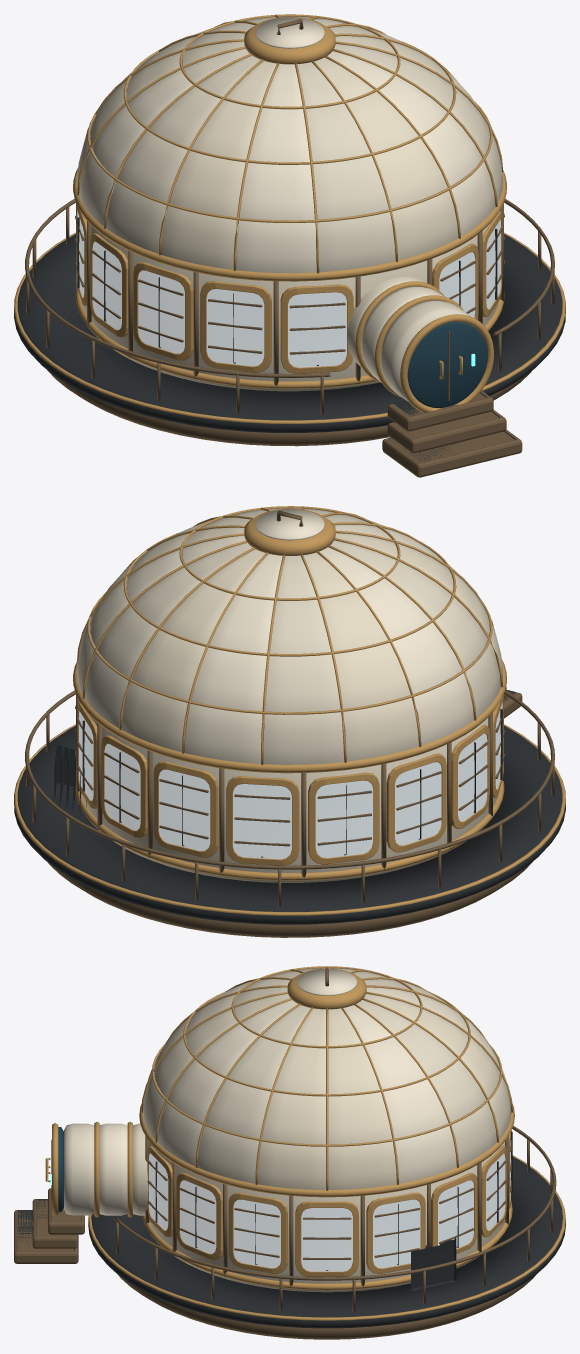
The model's file is habitat-h01.glb.
3 views of the same model, one above another, from view 1: azimuth 30°, elevation 25°; view 2: azimuth 150°, elevation 25°; view 3: azimuth 270°, elevation 25° (orthographic). The views are drawn at different scales.
Visible parts, largest first — view 1: H01 batch 02 / ARES / satin brass.001, H01 batch 03 / ARES / ivory ceramic 0.001, H01 batch 05 / ARES / ivory ceramic 1.001, H01 batch 06 / ARES / ivory ceramic 2.001, H01 batch 01 / ARES / charcoal seals.001, H01 batch 00 / ARES / dark bronze structure.001, H01 batch 04 / ARES / warm occupied windows.001, H01 batch 07 / ARES / navy enamel.001; view 2: H01 batch 02 / ARES / satin brass.001, H01 batch 03 / ARES / ivory ceramic 0.001, H01 batch 01 / ARES / charcoal seals.001, H01 batch 05 / ARES / ivory ceramic 1.001, H01 batch 06 / ARES / ivory ceramic 2.001, H01 batch 04 / ARES / warm occupied windows.001, H01 batch 00 / ARES / dark bronze structure.001; view 3: H01 batch 03 / ARES / ivory ceramic 0.001, H01 batch 02 / ARES / satin brass.001, H01 batch 01 / ARES / charcoal seals.001, H01 batch 05 / ARES / ivory ceramic 1.001, H01 batch 06 / ARES / ivory ceramic 2.001, H01 batch 00 / ARES / dark bronze structure.001, H01 batch 04 / ARES / warm occupied windows.001, H01 batch 07 / ARES / navy enamel.001.
Part boxes in pixels (box(x1,y1,x2,y2)): H01 batch 02 / ARES / satin brass.001: box(14, 14, 565, 423); H01 batch 03 / ARES / ivory ceramic 0.001: box(77, 17, 498, 391); H01 batch 05 / ARES / ivory ceramic 1.001: box(79, 17, 495, 381); H01 batch 06 / ARES / ivory ceramic 2.001: box(106, 16, 502, 401); H01 batch 01 / ARES / charcoal seals.001: box(14, 217, 565, 461); H01 batch 00 / ARES / dark bronze structure.001: box(25, 19, 554, 477); H01 batch 04 / ARES / warm occupied windows.001: box(77, 210, 500, 367); H01 batch 07 / ARES / navy enamel.001: box(407, 322, 487, 408); H01 batch 02 / ARES / satin brass.001: box(14, 506, 565, 915); H01 batch 03 / ARES / ivory ceramic 0.001: box(81, 508, 502, 882); H01 batch 01 / ARES / charcoal seals.001: box(14, 690, 565, 924); H01 batch 05 / ARES / ivory ceramic 1.001: box(77, 508, 473, 763); H01 batch 06 / ARES / ivory ceramic 2.001: box(84, 510, 500, 764); H01 batch 04 / ARES / warm occupied windows.001: box(79, 702, 502, 859); H01 batch 00 / ARES / dark bronze structure.001: box(25, 510, 554, 937); H01 batch 03 / ARES / ivory ceramic 0.001: box(133, 971, 511, 1292); H01 batch 02 / ARES / satin brass.001: box(45, 966, 565, 1320); H01 batch 01 / ARES / charcoal seals.001: box(17, 1131, 565, 1328); H01 batch 05 / ARES / ivory ceramic 1.001: box(99, 968, 506, 1215); H01 batch 06 / ARES / ivory ceramic 2.001: box(64, 968, 496, 1215); H01 batch 00 / ARES / dark bronze structure.001: box(14, 968, 556, 1339); H01 batch 04 / ARES / warm occupied windows.001: box(149, 1142, 510, 1271); H01 batch 07 / ARES / navy enamel.001: box(58, 1127, 63, 1212).
Size of the model in its own units: 5.92 by 3.78 by 6.84.
